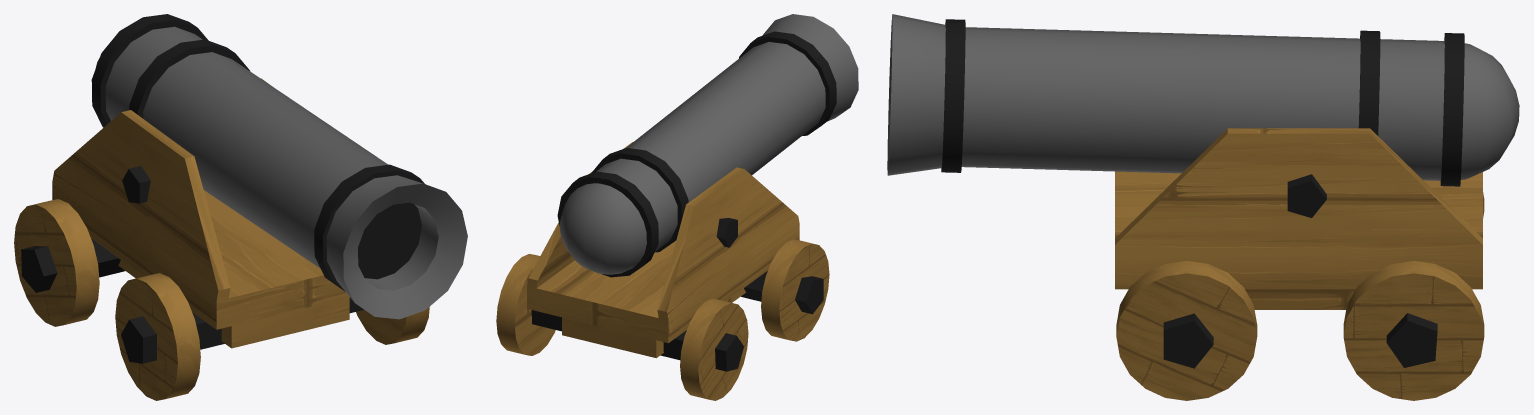
Rendered from cannonv3_model.fbx.
3 renders of one model, left to right at view 1: azimuth 30°, elevation 25°; view 2: azimuth 150°, elevation 25°; view 3: azimuth 270°, elevation 25°, orthographic. The views are drawn at different scales.
Parts seen in each view (by area): view 1: polySurface22, polySurface17; view 2: polySurface22, polySurface17; view 3: polySurface22, polySurface17.
Boxes of the visible parts, x1,y1,x2,y2 form: polySurface22: (14, 78, 429, 400); polySurface17: (91, 14, 467, 319); polySurface22: (496, 142, 829, 400); polySurface17: (557, 14, 858, 277); polySurface22: (1115, 128, 1484, 400); polySurface17: (887, 14, 1519, 186).
Bounding box in the file's own units: 10.32 × 9.73 × 17.96.
